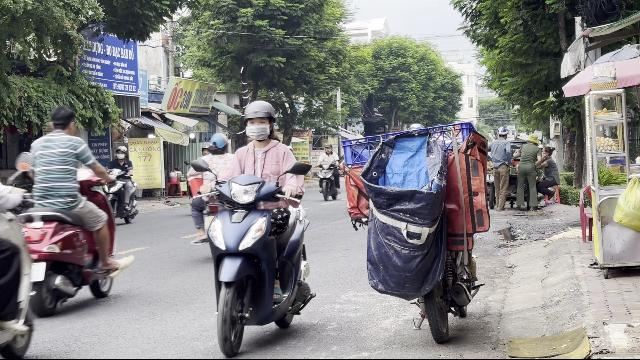helmet: (239, 99, 277, 141), (205, 132, 229, 156), (114, 144, 126, 160)
motorcyclist: (188, 99, 316, 353), (0, 102, 126, 316), (102, 144, 138, 224)
nohelmet: (48, 105, 76, 133)
